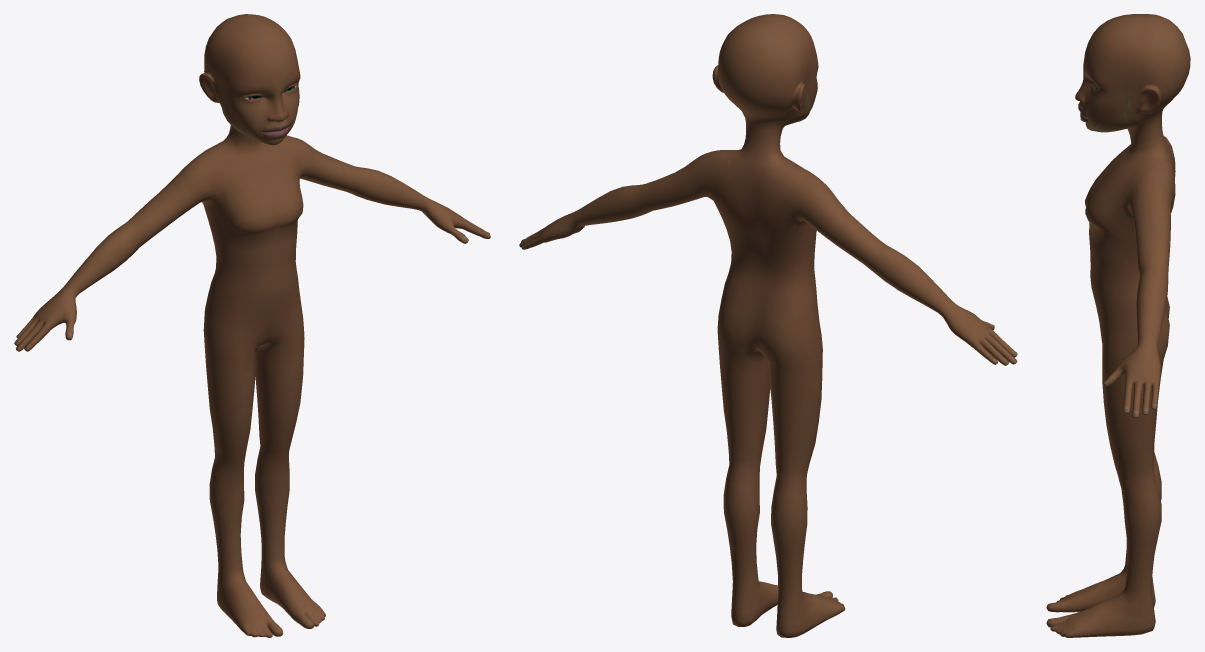
File: frame_0003.glb
3 renders of one model, left to right at view 1: azimuth 30°, elevation 25°; view 2: azimuth 150°, elevation 25°; view 3: azimuth 270°, elevation 25°, orthographic. The views are drawn at different scales.
Visible parts, largest first — view 1: frame_0003_head_geo; view 2: frame_0003_head_geo; view 3: frame_0003_head_geo.
Boxes of the visible parts, x1=… form: frame_0003_head_geo: x1=14, y1=14, x2=490, y2=637; frame_0003_head_geo: x1=519, y1=14, x2=1017, y2=637; frame_0003_head_geo: x1=1046, y1=14, x2=1190, y2=637.
Size of the model in its own units: 1.28 by 1.5 by 0.3253.
Materials: 3 (3 with a texture image).
